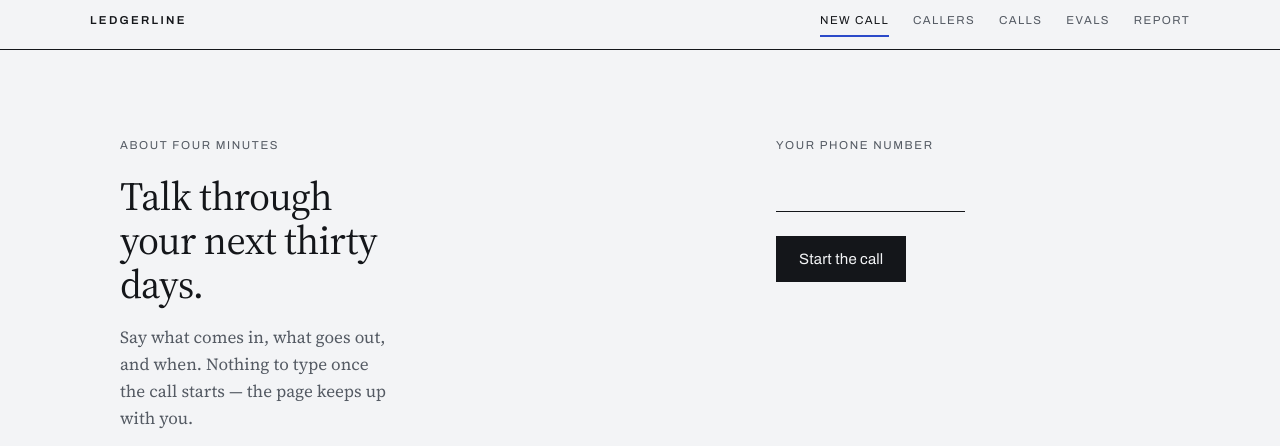
Scenario: the phone number on the start screen › never posts a number the server would refuse, and says what it wants instead
This screenshot has width=1280, height=446.
Type "98765" into the field labelled "Your phone number" at (870, 191), box [776,170,965,212]
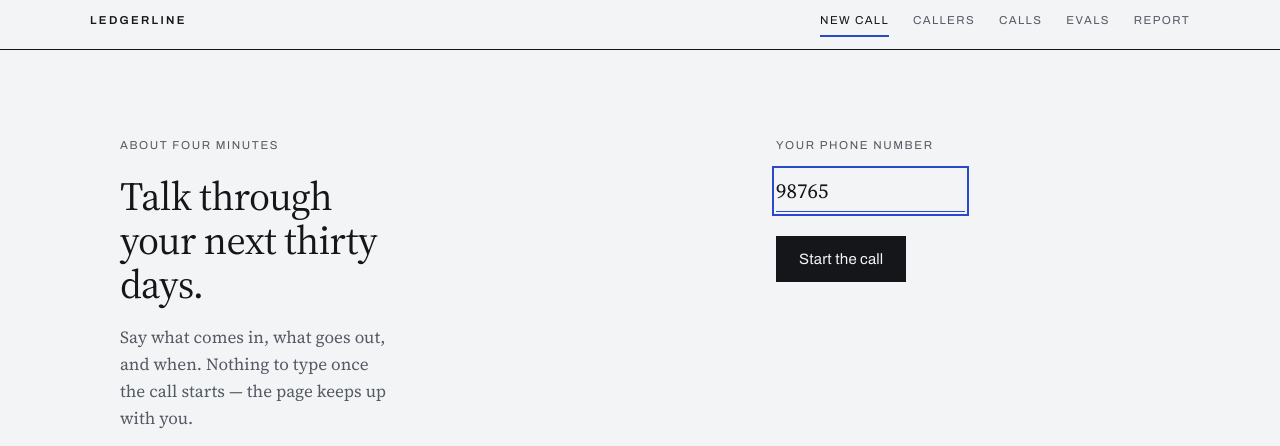
Click the button "Start the call" at (841, 259), box [776,236,906,282]
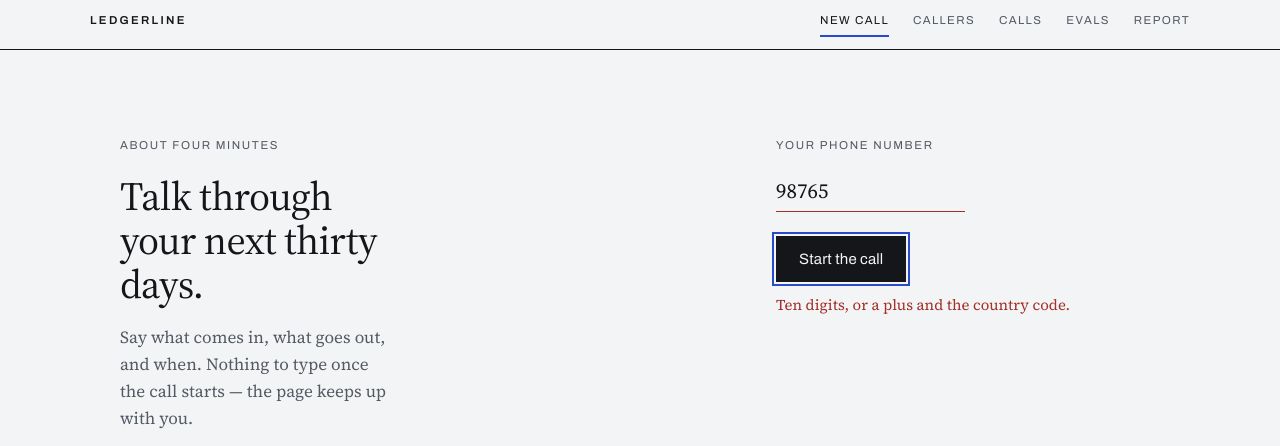
Result: the message shows "Ten digits" at [776,294,1070,315]
